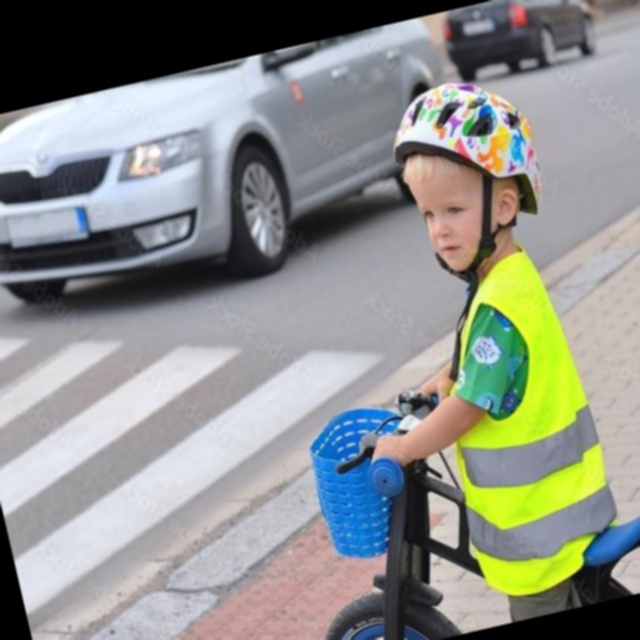Con_Chaleco: (405, 248, 637, 603)
